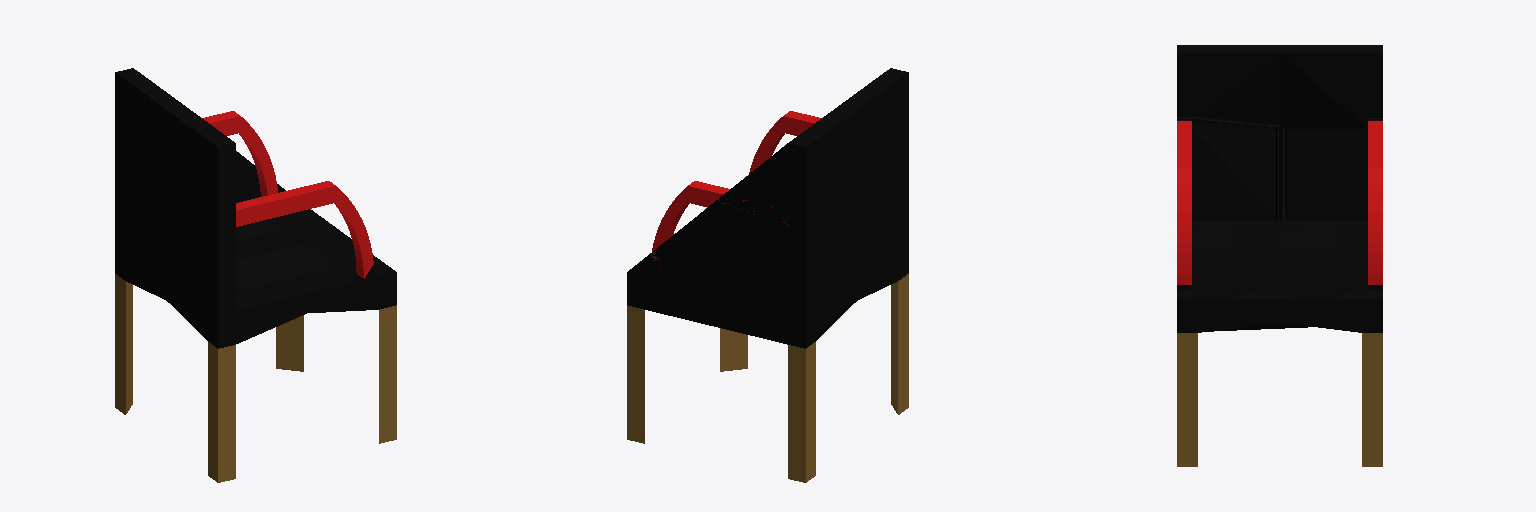
The picture shows the model from 3 angles: view 1: azimuth 30°, elevation 25°; view 2: azimuth 150°, elevation 25°; view 3: azimuth 270°, elevation 25°; orthographic projection.
Visible parts, largest first — view 1: Cubo.019_Cubo.036; view 2: Cubo.019_Cubo.036; view 3: Cubo.019_Cubo.036.
Boxes of the visible parts, x1,y1,x2,y2 form: Cubo.019_Cubo.036: [115, 68, 396, 482]; Cubo.019_Cubo.036: [627, 68, 908, 482]; Cubo.019_Cubo.036: [1177, 45, 1382, 466].
Size of the model in its own units: 0.5 by 0.9 by 0.5.
Materials: 1 (1 with a texture image).